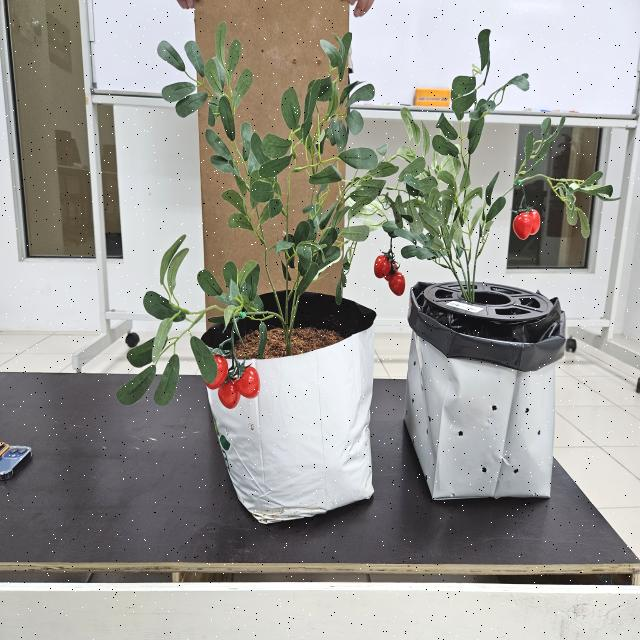Soilbag: (406, 286, 571, 504), (205, 324, 375, 527)
Tomato: (208, 358, 260, 409), (373, 243, 406, 296), (512, 205, 541, 240)
plant: (115, 22, 377, 411), (342, 29, 614, 304)
